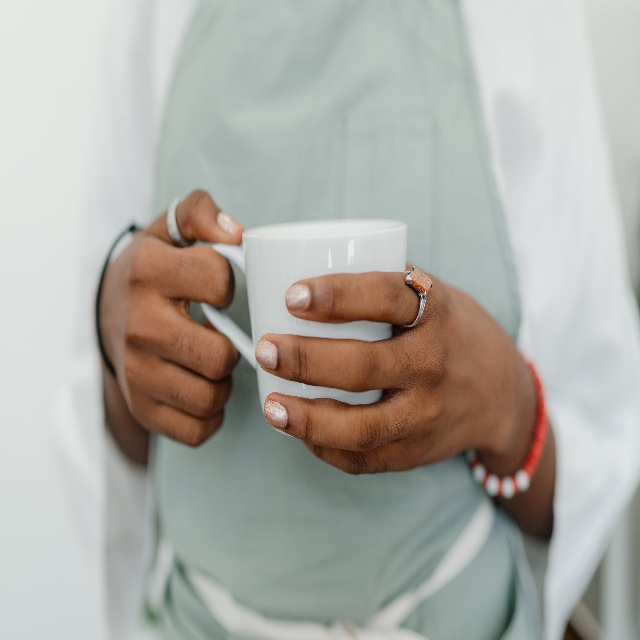Sin_guantes: (256, 267, 515, 486), (98, 188, 246, 447)
